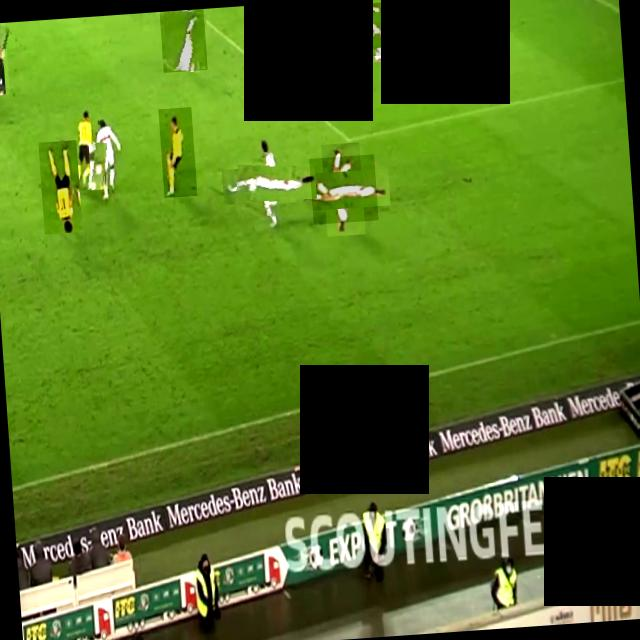ball: (85, 140, 107, 188)
referee: (0, 21, 8, 95)
soccer-player: (231, 147, 305, 220), (308, 153, 377, 223), (37, 139, 81, 233), (157, 106, 196, 196), (351, 0, 408, 56), (158, 8, 206, 72)
